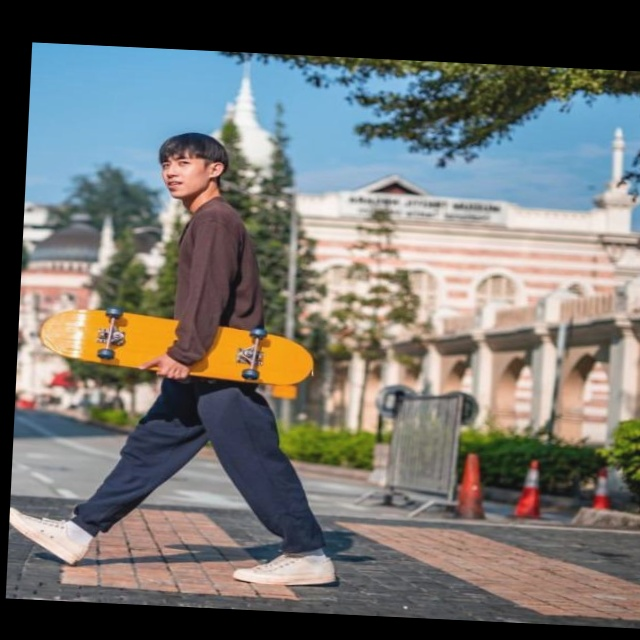Sin_Casco_Mascarrilla: (157, 130, 229, 202)
Sin_Chaleco: (165, 199, 264, 354)
